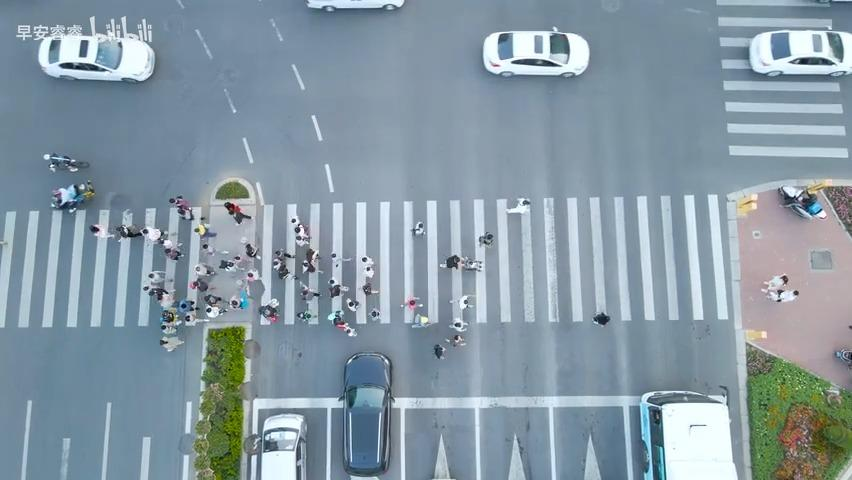Civilian: (50, 179, 94, 213), (505, 189, 539, 220), (43, 152, 89, 172), (761, 273, 788, 301), (157, 332, 187, 357), (294, 255, 321, 282), (472, 224, 500, 250), (322, 308, 354, 330), (223, 201, 251, 226), (51, 184, 79, 209), (137, 223, 170, 243), (254, 298, 280, 323), (293, 299, 316, 327), (446, 328, 475, 350), (112, 222, 140, 244), (190, 259, 218, 281), (169, 195, 193, 220), (405, 307, 430, 331), (302, 241, 325, 266), (143, 266, 171, 286), (591, 305, 611, 333), (445, 313, 473, 333), (441, 250, 464, 274), (203, 304, 228, 326), (242, 267, 264, 292), (402, 292, 428, 313), (157, 305, 184, 325), (293, 282, 323, 300), (86, 221, 108, 245), (193, 219, 216, 240), (364, 304, 385, 327), (330, 248, 351, 271), (453, 292, 476, 313), (221, 257, 246, 276), (137, 282, 163, 300), (226, 293, 252, 311), (162, 246, 185, 266), (359, 281, 383, 300), (242, 243, 265, 262), (189, 279, 213, 297), (413, 219, 431, 243), (465, 255, 487, 274), (325, 275, 347, 293), (269, 259, 288, 279), (343, 295, 363, 314), (358, 250, 378, 269), (198, 240, 219, 258), (365, 305, 387, 322), (285, 216, 306, 231), (775, 289, 799, 302), (294, 224, 314, 239), (433, 343, 446, 359), (364, 264, 379, 277), (271, 249, 287, 260)
